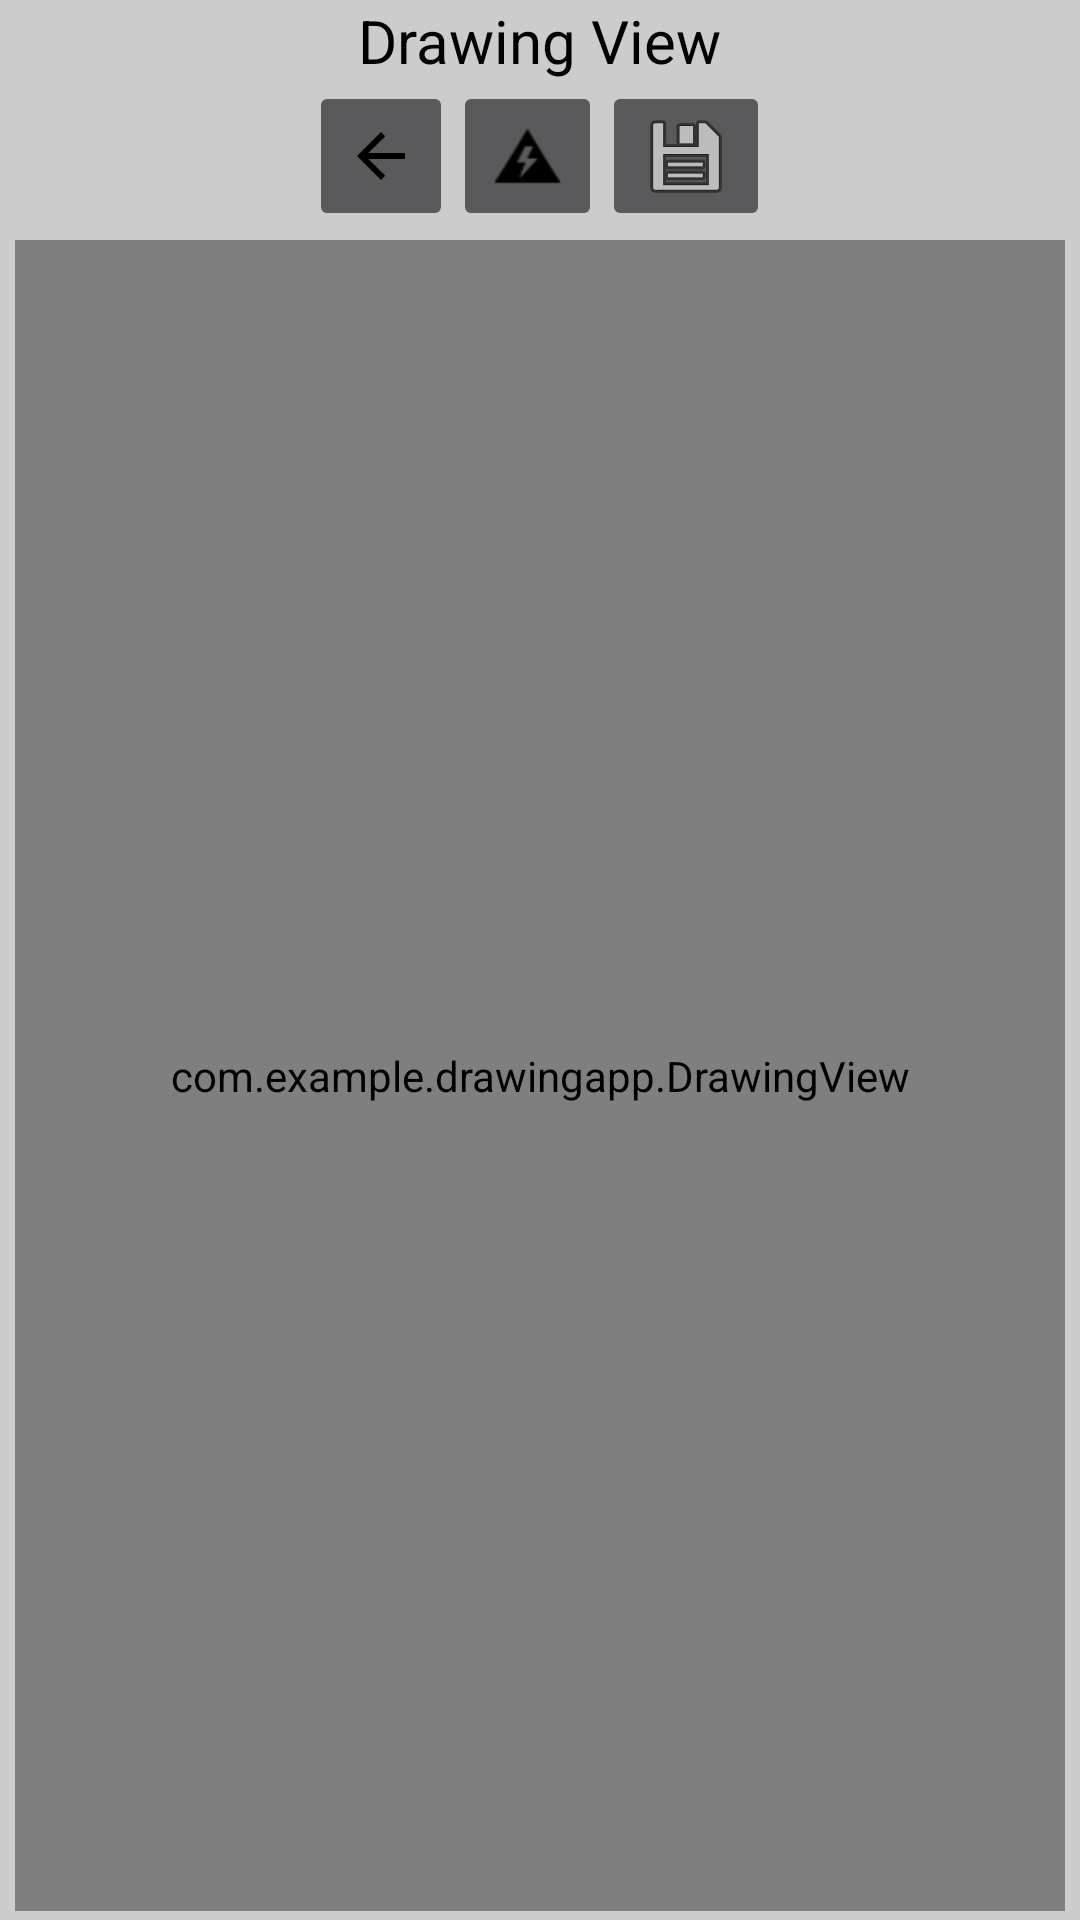

Where to tap for icons on this 1080px x 1920px app screen, as point (x, y):
Save: point (686, 156)
